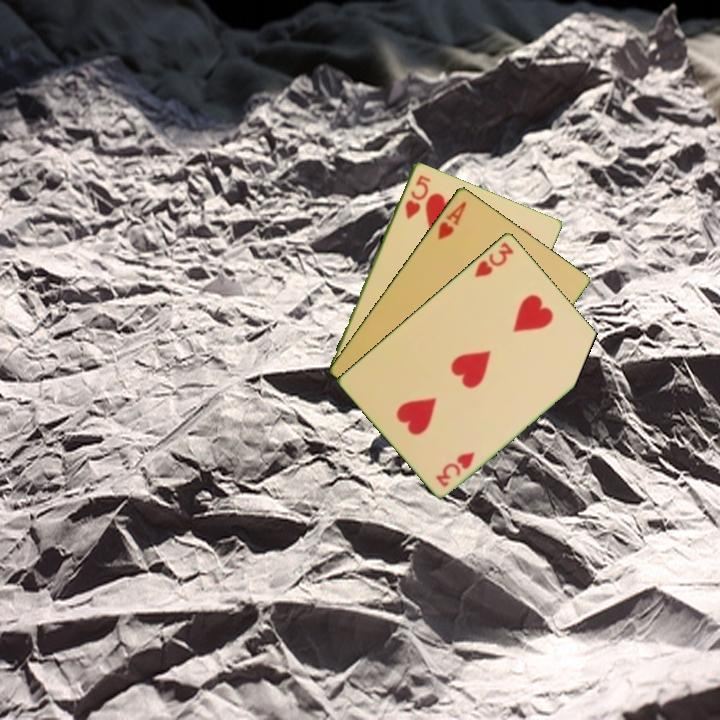3h: (471, 238, 517, 280), (432, 448, 478, 490)
5h: (401, 171, 433, 222)
Ah: (434, 197, 469, 242)
